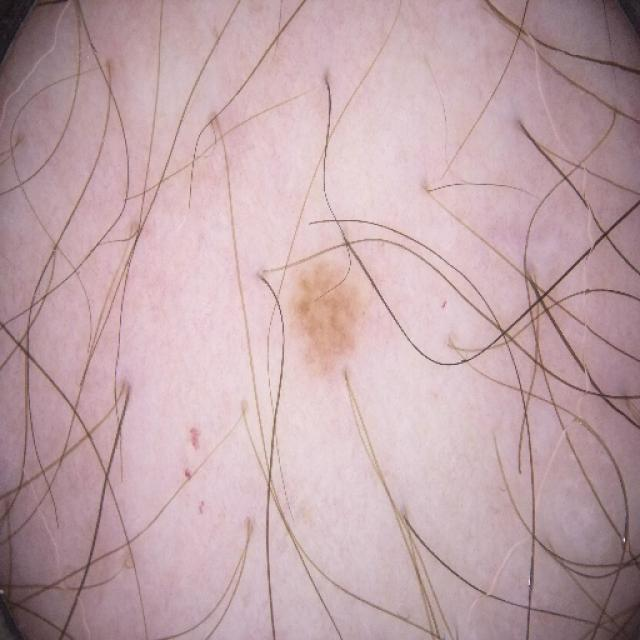Melanoma: (292, 261, 360, 370)
